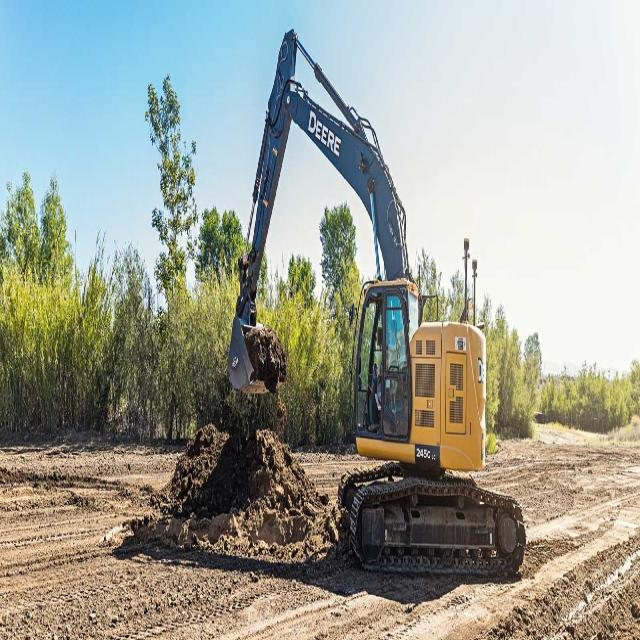excavator: (227, 29, 526, 582)
